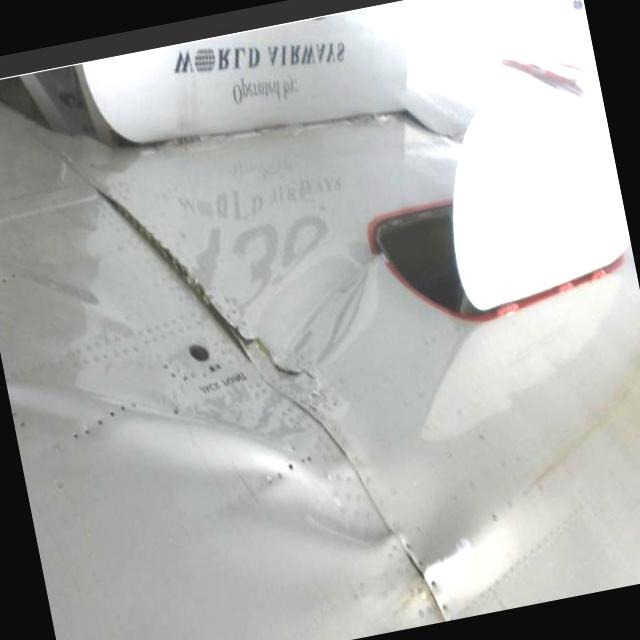crack: (230, 307, 316, 396)
